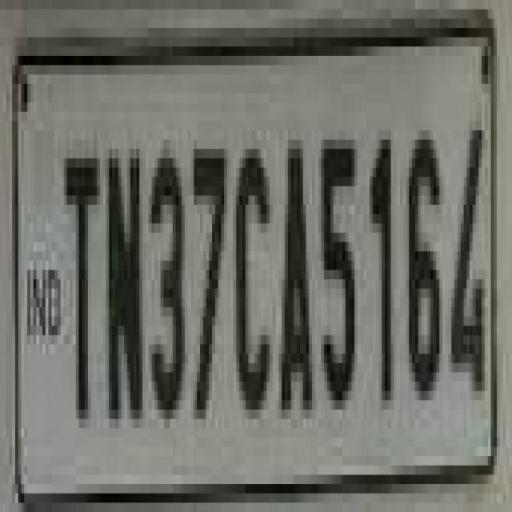number plate: (0, 18, 490, 511)
